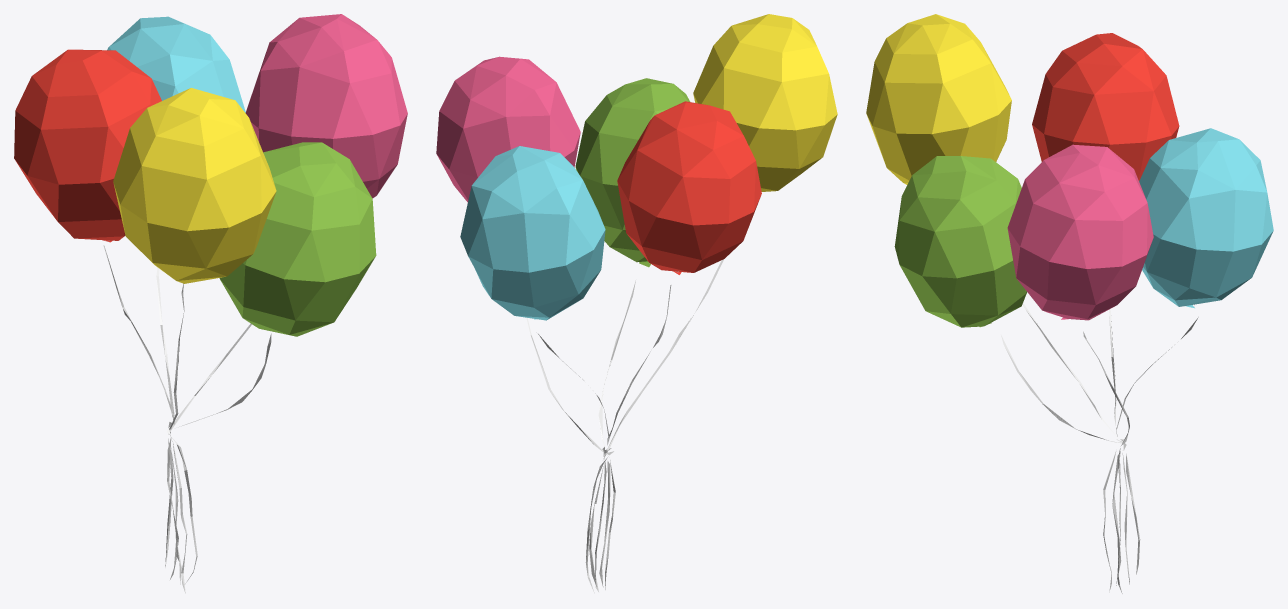
File: balloons.fbx
3 renders of one model, left to right at view 1: azimuth 30°, elevation 25°; view 2: azimuth 150°, elevation 25°; view 3: azimuth 270°, elevation 25°, orthographic. The views are drawn at different scales.
Visible parts, largest first — view 1: group937412317, group998948878, group1093366644, group210495034, group96097516; view 2: group96097516, group210495034, group937412317, group1093366644, group998948878, group179702927; view 3: group1093366644, group96097516, group998948878, group937412317, group210495034.
Part boxes in pixels (x1,y1,x2,y2): group937412317: (113,88,276,283); group998948878: (219,142,376,336); group1093366644: (245,14,407,198); group210495034: (14,49,161,240); group96097516: (107,16,245,112); group96097516: (460,146,605,320); group210495034: (617,101,761,272); group937412317: (693,14,837,191); group1093366644: (436,56,580,202); group998948878: (575,78,690,262); group179702927: (603,259,723,459); group1093366644: (1007,144,1153,320); group96097516: (1139,128,1273,306); group998948878: (894,156,1026,327); group937412317: (866,14,1011,184); group210495034: (1032,33,1179,180).
Bounding box in the file's own units: 1.2 × 1.9 × 1.32.
